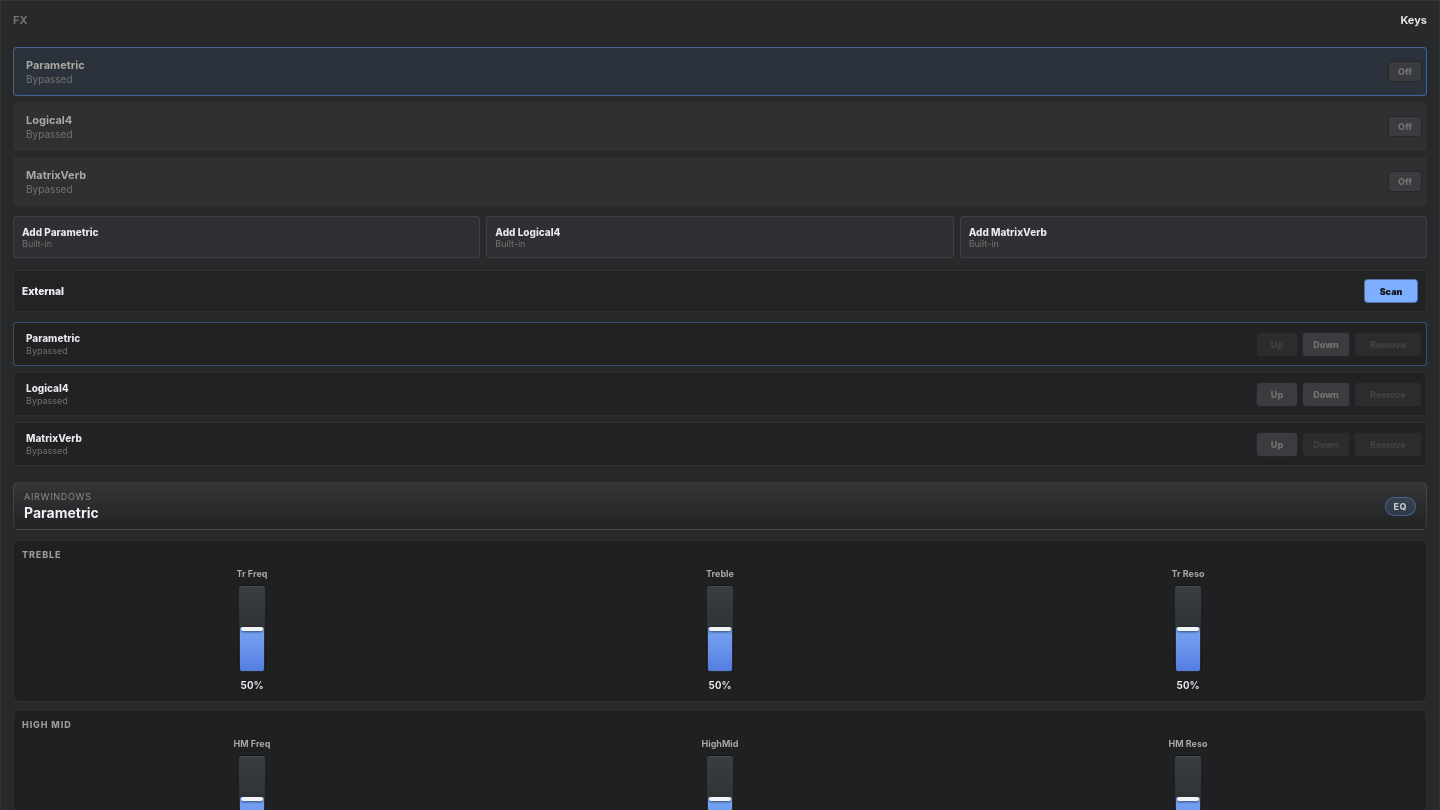
shows validation failure instead of committing an unavailable external plugin
What coordinates should you click on to do the following:
click the button "Scan"
I would click on:
 (1391, 291)
Its box is [1364,279,1418,303].
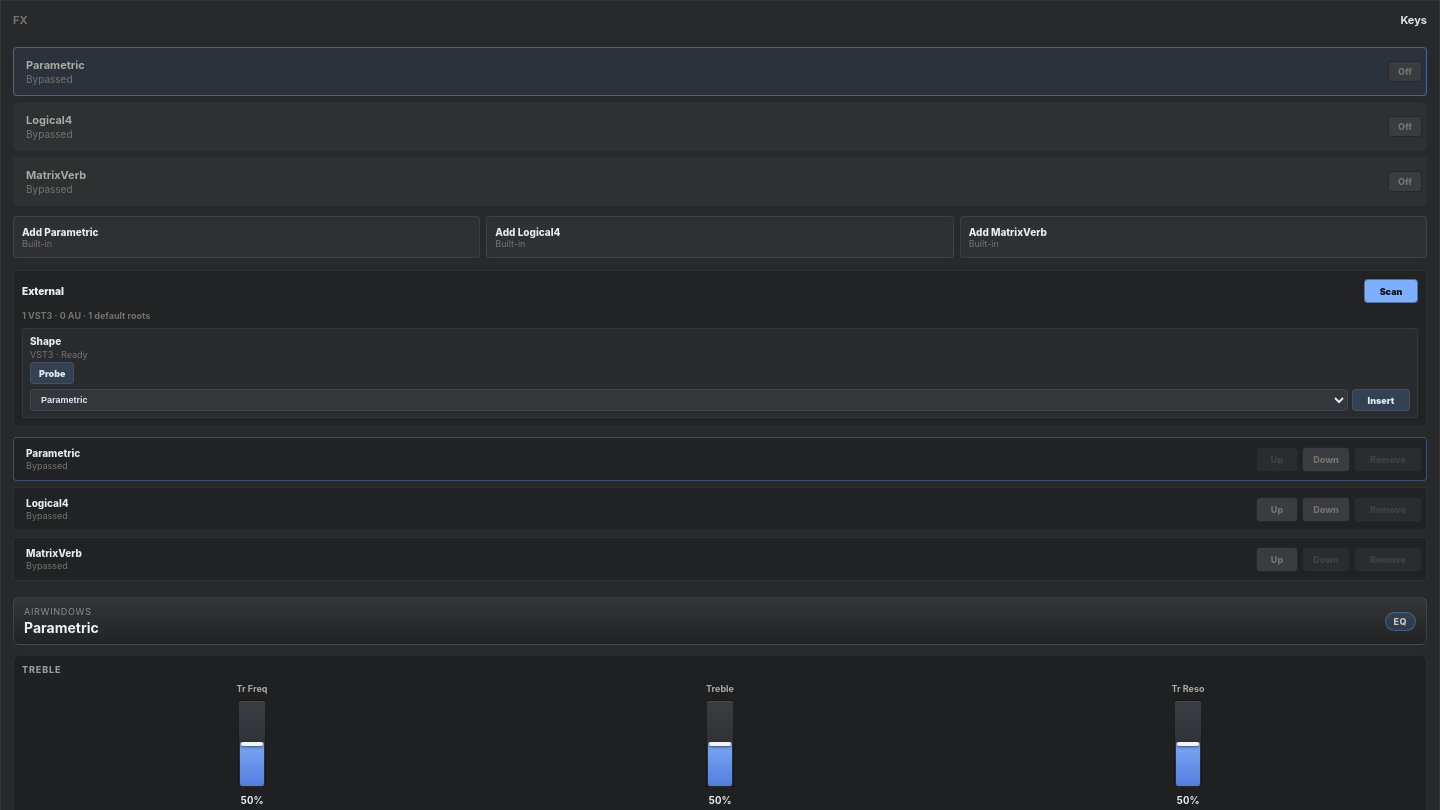
Check: the text "Shape" is shown, box [30,335,61,347]
What coordinates should you click on to do the following:
click the button with aria-label "Insert Shape"
I would click on:
 (1381, 400)
Its box is [1352,389,1410,411].
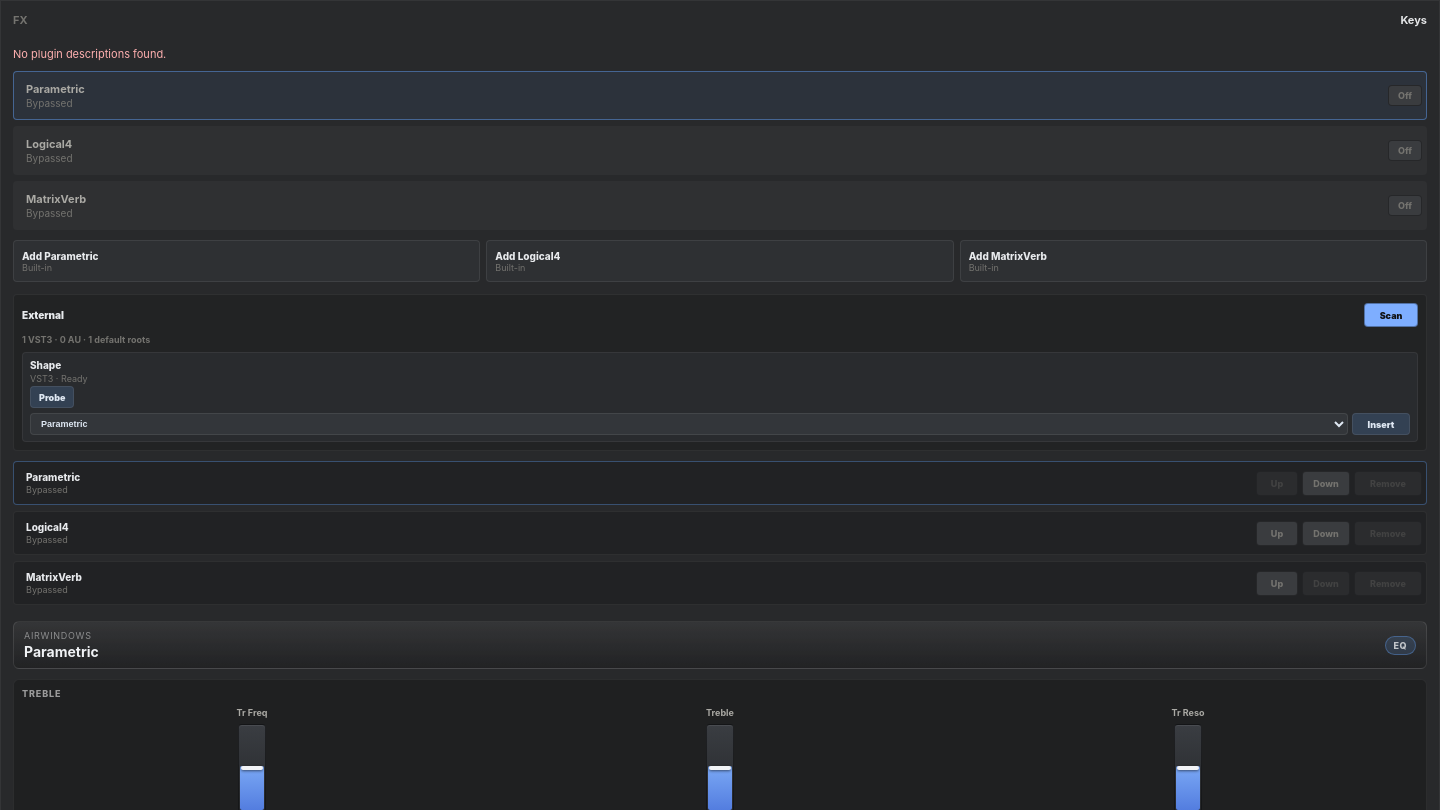
Check: the text "No plugin descriptions found." is shown, box [13,47,166,61]
